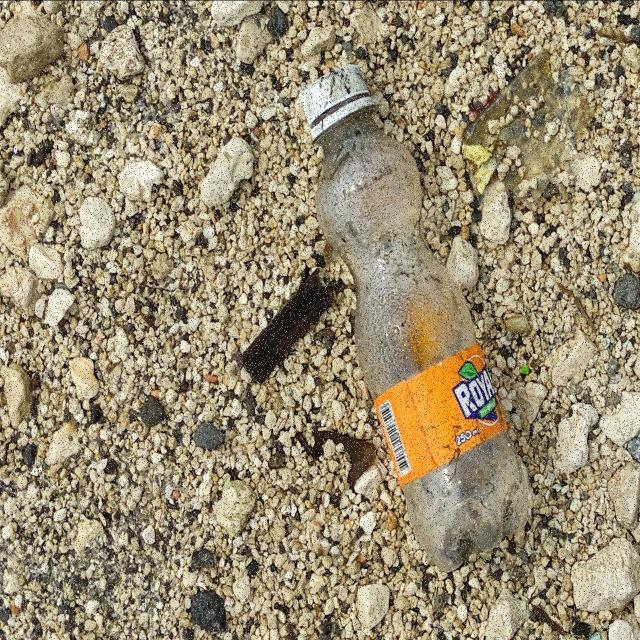plastic_waste: (301, 62, 533, 578)
